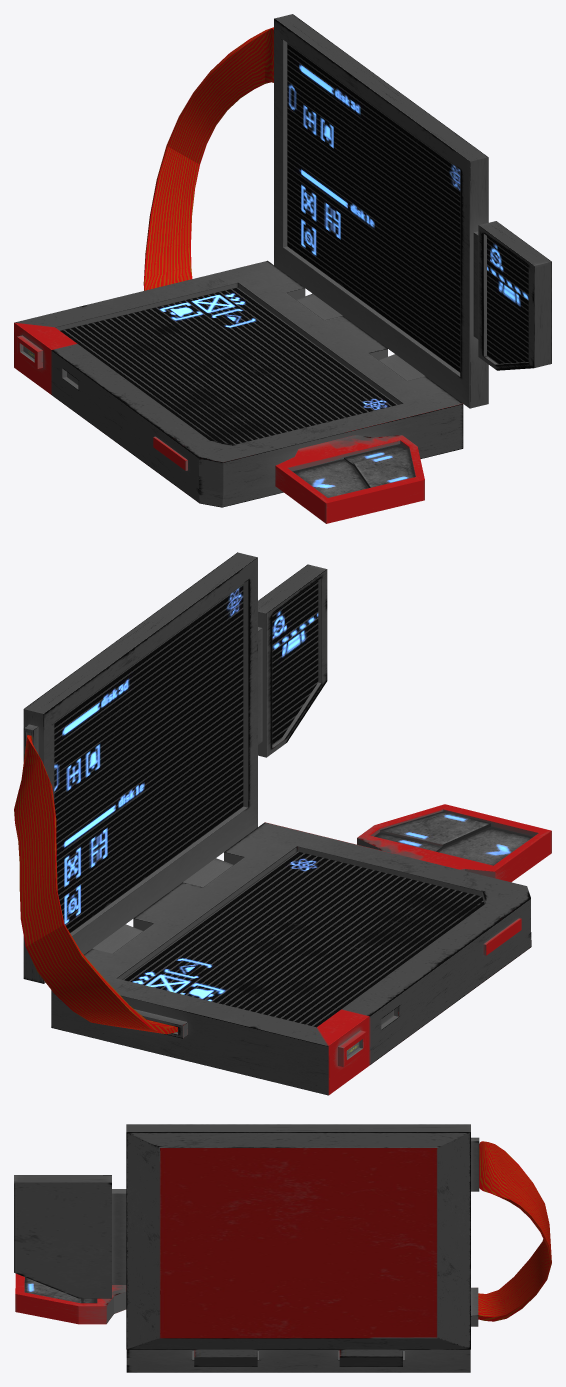
The model's file is cyberdeck.glb.
3 renders of one model, top to bottom at view 1: azimuth 30°, elevation 25°; view 2: azimuth 150°, elevation 25°; view 3: azimuth 270°, elevation 25°, orthographic. The views are drawn at different scales.
Visible parts, largest first — view 1: Cube.001, Cube, Plane; view 2: Cube.001, Cube, Plane; view 3: Cube, Cube.001, Plane.
Part boxes in pixels (bbox=[...]): Cube.001: bbox=[14, 260, 463, 523]; Cube: bbox=[274, 14, 551, 408]; Plane: bbox=[143, 27, 273, 290]; Cube.001: bbox=[51, 804, 551, 1095]; Cube: bbox=[23, 552, 327, 983]; Plane: bbox=[14, 735, 177, 1034]; Cube: bbox=[14, 1124, 479, 1366]; Cube.001: bbox=[15, 1273, 478, 1372]; Plane: bbox=[478, 1141, 551, 1321].
Size of the model in its own units: 0.5866 by 0.5527 by 1.07.
Materials: 7 (7 with a texture image).
